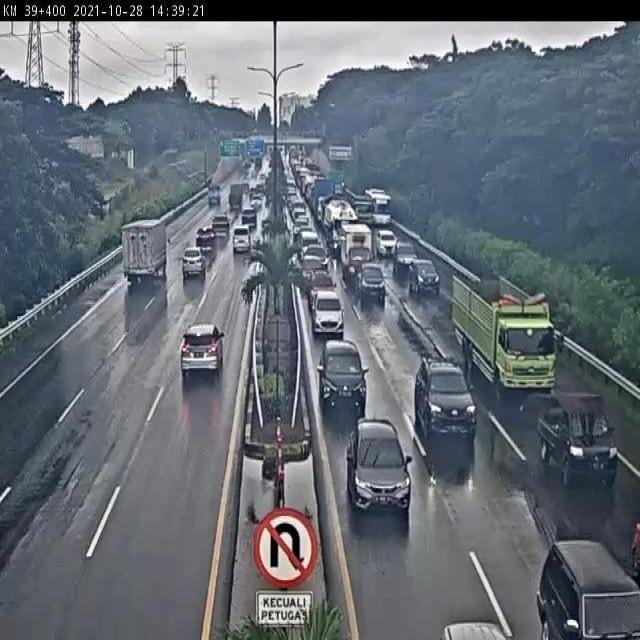big bus: (365, 187, 394, 228)
big truck: (450, 262, 560, 398), (114, 215, 175, 288), (336, 217, 374, 284), (347, 189, 374, 227)
car: (534, 532, 640, 640), (534, 390, 618, 486), (346, 409, 410, 514), (415, 352, 477, 449), (313, 336, 367, 411), (177, 313, 224, 383), (309, 284, 344, 336), (355, 257, 389, 300), (408, 257, 441, 295), (389, 234, 416, 274), (298, 256, 327, 291), (304, 240, 331, 275), (182, 247, 207, 281), (185, 235, 210, 265), (372, 224, 395, 255), (230, 225, 253, 256), (296, 230, 321, 258), (311, 266, 333, 294), (205, 220, 226, 249), (238, 211, 256, 232), (246, 199, 261, 216)
